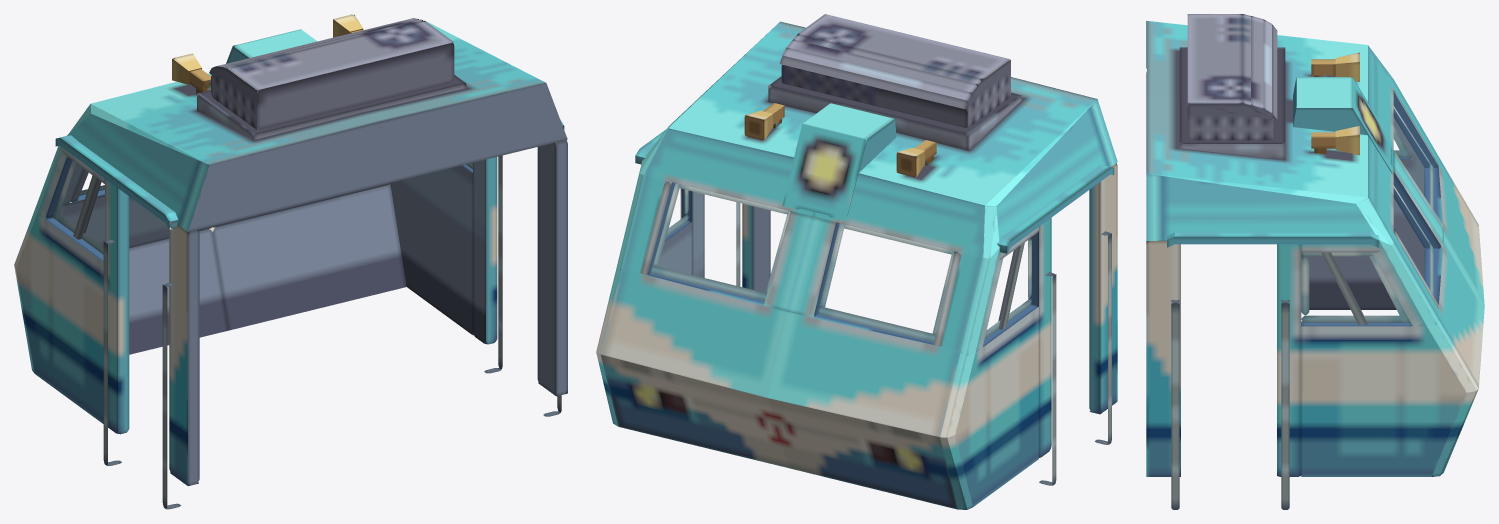
File: ss8_head_early.obj
3 views of the same model, side by side, from view 1: azimuth 30°, elevation 25°; view 2: azimuth 150°, elevation 25°; view 3: azimuth 270°, elevation 25° (orthographic). The views are drawn at different scales.
Parts seen in each view (by area): view 1: 大窗版; view 2: 大窗版; view 3: 大窗版.
Boxes of the visible parts, x1,y1,x2,y2 form: 大窗版: [14, 14, 567, 509]; 大窗版: [596, 14, 1117, 509]; 大窗版: [1146, 14, 1484, 509].
Size of the model in its own units: 3.25 by 3.06 by 2.6.
